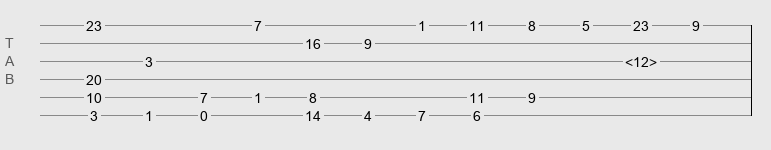0: (200, 108, 208, 118)
1: (145, 108, 153, 118), (254, 90, 262, 100), (418, 18, 426, 28)
10: (86, 90, 102, 100)
11: (469, 18, 485, 28), (469, 90, 485, 100)
14: (305, 108, 321, 118)
16: (305, 36, 321, 46)
20: (86, 72, 102, 82)
23: (86, 18, 102, 28), (633, 18, 649, 28)
3: (90, 108, 98, 118), (145, 54, 153, 64)
4: (364, 108, 372, 118)
5: (582, 18, 590, 28)
6: (473, 108, 481, 118)
7: (200, 90, 208, 100), (254, 18, 262, 28), (418, 108, 426, 118)
8: (309, 90, 317, 100), (528, 18, 536, 28)
9: (364, 36, 372, 46), (528, 90, 536, 100), (692, 18, 700, 28)
harmonic: (625, 54, 657, 64)
